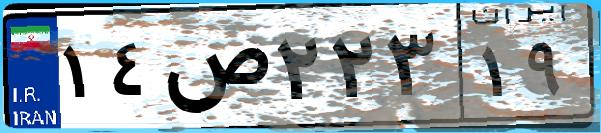1: (57, 26, 110, 100), (475, 38, 525, 113)
2: (270, 28, 330, 110), (330, 28, 385, 110)
3: (385, 28, 445, 110)
4: (110, 28, 158, 98)
9: (525, 38, 570, 115)
ص: (158, 20, 270, 120)
